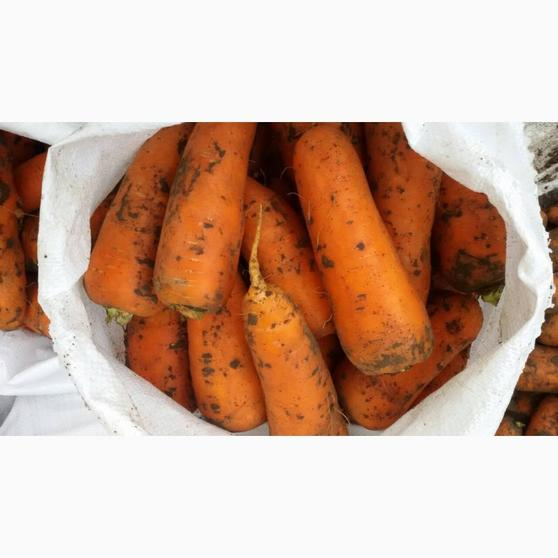carrot: (158, 121, 247, 320)
